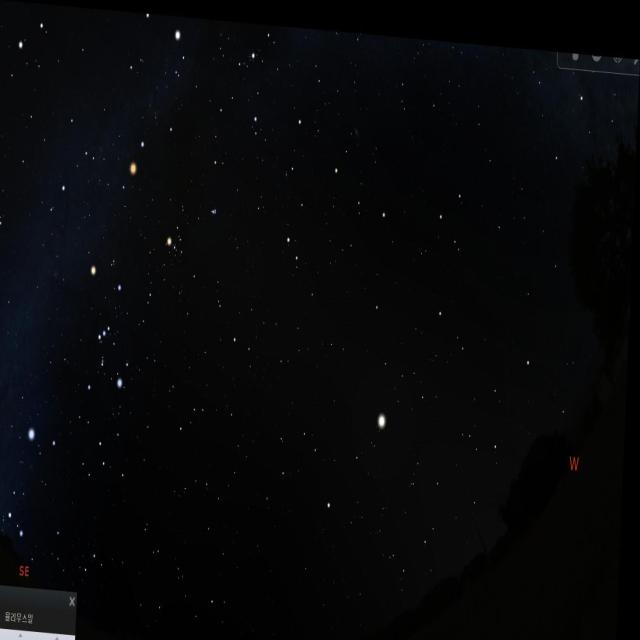canis_major: (8, 415, 64, 544)
gemini: (11, 1, 116, 168)
orion: (80, 253, 136, 402)
pleiades: (208, 193, 225, 218)
taurus: (164, 164, 227, 276)
